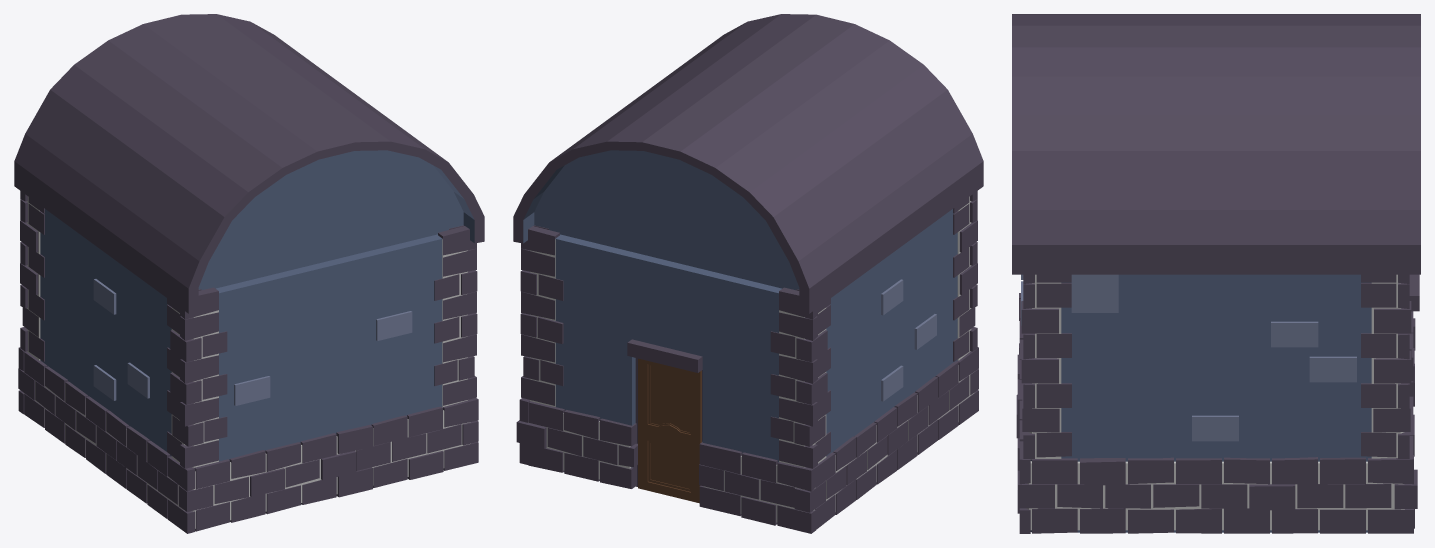
Rendered from 1Story_RoundRoof.glb.
The picture shows the model from 3 angles, left to right: view 1: azimuth 30°, elevation 25°; view 2: azimuth 150°, elevation 25°; view 3: azimuth 270°, elevation 25°; orthographic projection. The views are drawn at different scales.
Parts seen in each view (by area): view 1: 1Story_RoundRoof; view 2: 1Story_RoundRoof; view 3: 1Story_RoundRoof.
Boxes of the visible parts, x1=… form: 1Story_RoundRoof: x1=14, y1=14, x2=484, y2=533; 1Story_RoundRoof: x1=513, y1=14, x2=983, y2=533; 1Story_RoundRoof: x1=1012, y1=14, x2=1420, y2=533.
Size of the model in its own units: 2.09 by 2.38 by 2.13.
1 material, 1 textured.
